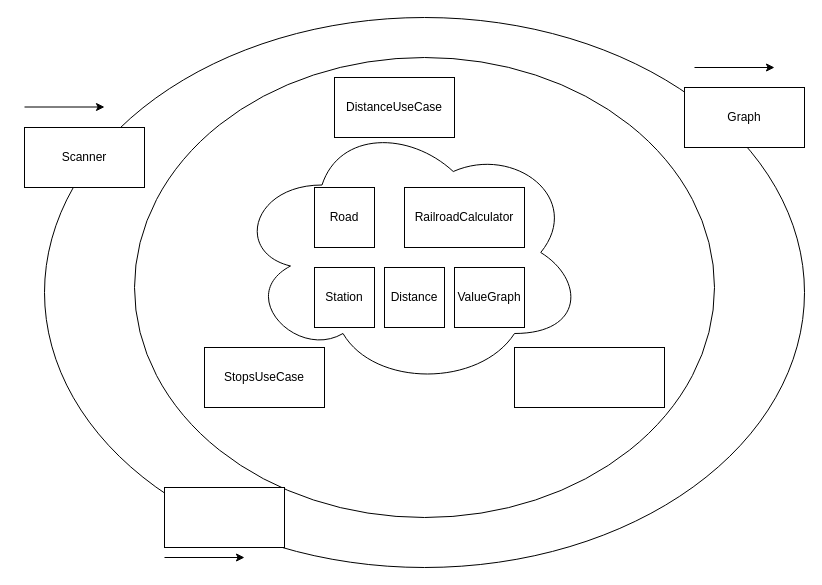
This 822x585 diagram has some shape labels left out. The shapes that lost their labels are listed below. From the top down, each one's centre as x and y in pixels, then its label:
the point at 589,377: RaodByDistanceUseCase
the point at 224,517: Answerer
